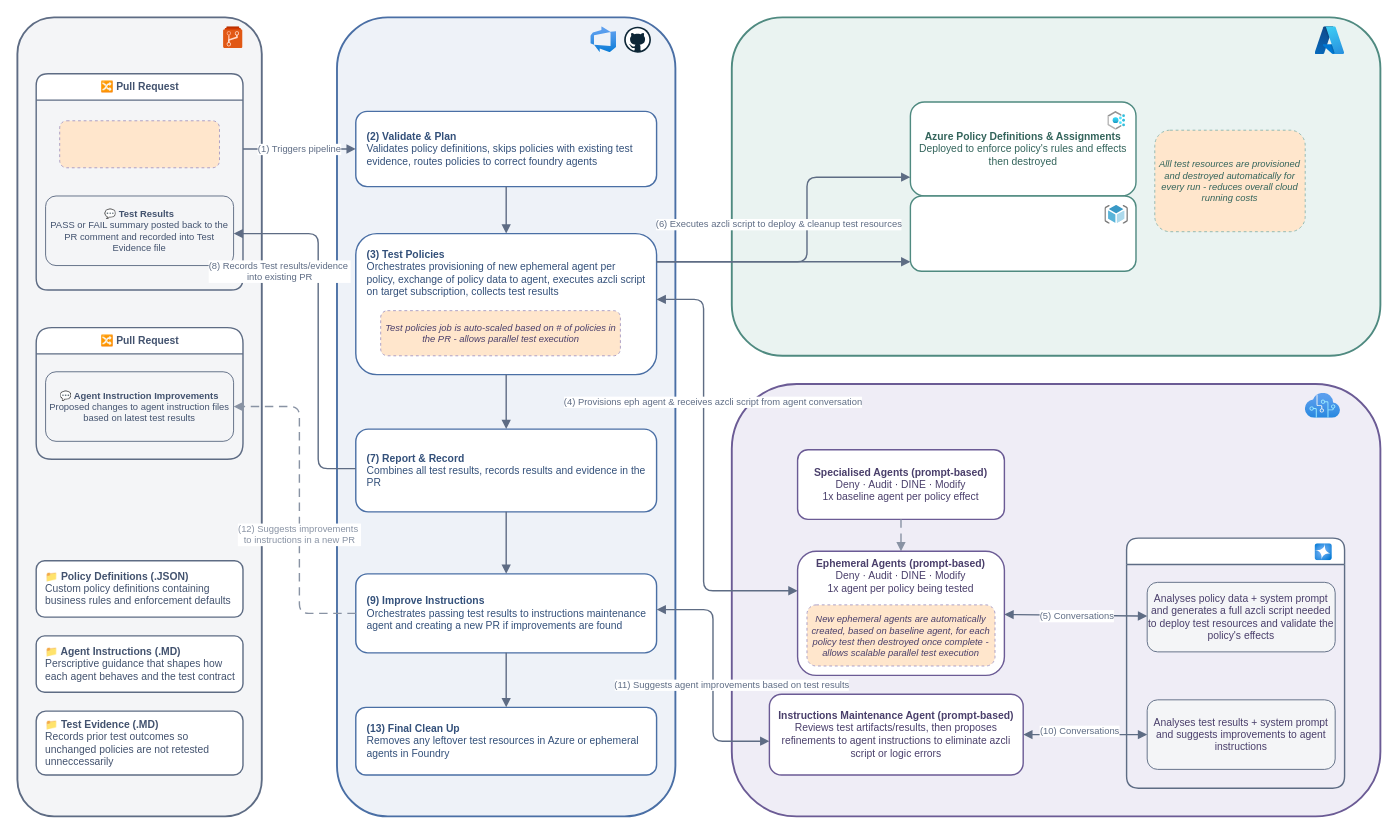
Image size: 1397x833. Some labels were removed from this diagram. The shapes that lost their labels are listed below. From the top down, each one's box as (x1, y1, x2, y2) in pixels, then its label:
(59, 120, 219, 168): Engineer/Agent opens PR with new or changed policy definitions (.JSON)
(730, 16, 1381, 356): Azure Subscription
(909, 195, 1136, 271): Azure Resources Deployed to validate policy's rules and effects then destroyed
(16, 16, 262, 817): Policy-as-Code Repo
(336, 16, 676, 817): DevOps CI/CD
(730, 383, 1381, 817): Microsoft Foundry
(1125, 537, 1345, 788): Deployed Model
